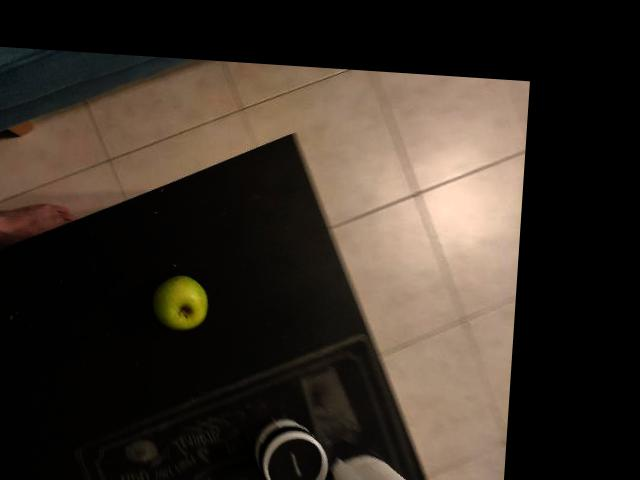apple: (226, 157, 315, 244)
